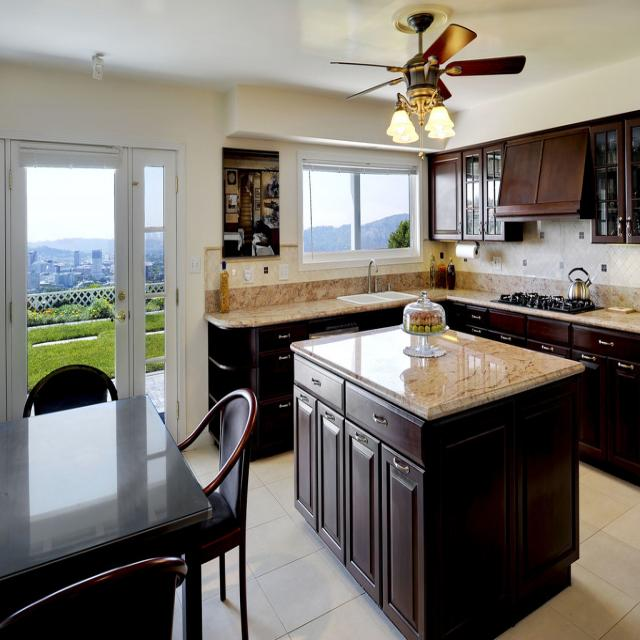Bulb: (329, 11, 527, 160)
